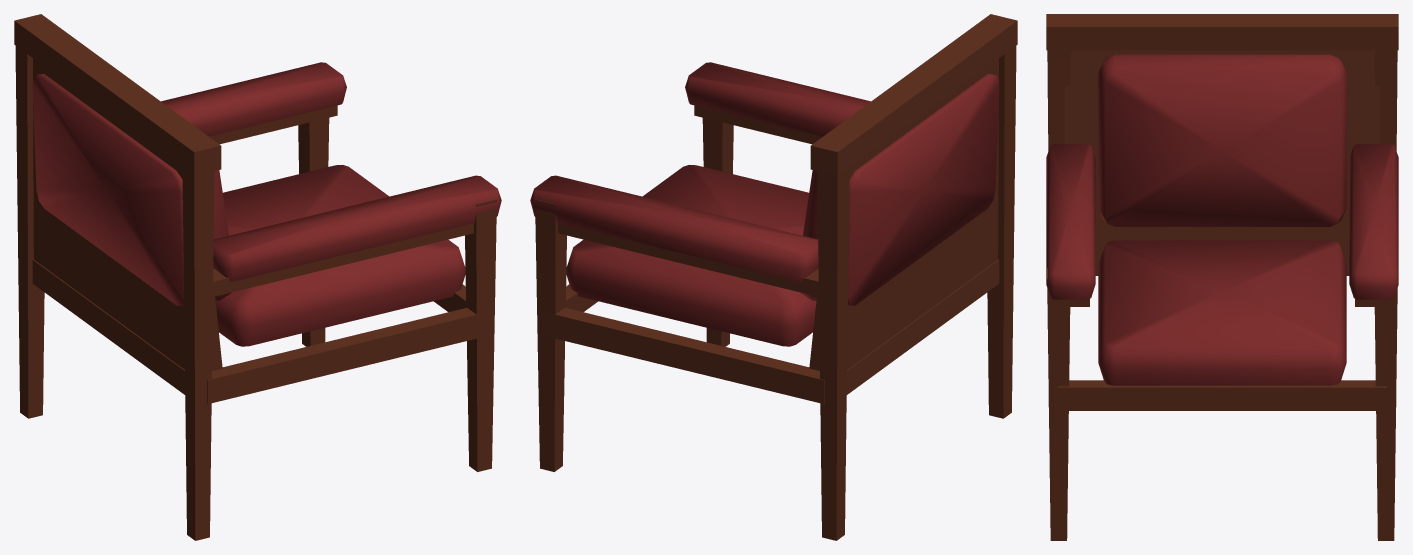
Rendered from parametric-armchair-2nd.glb.
The picture shows the model from 3 angles, left to right: view 1: azimuth 30°, elevation 25°; view 2: azimuth 150°, elevation 25°; view 3: azimuth 270°, elevation 25°; orthographic projection. The views are drawn at different scales.
Visible parts, largest first — view 1: parametric-armchair-2nd; view 2: parametric-armchair-2nd; view 3: parametric-armchair-2nd.
Boxes of the visible parts, bbox=[...] form: parametric-armchair-2nd: bbox=[14, 14, 501, 540]; parametric-armchair-2nd: bbox=[530, 14, 1017, 540]; parametric-armchair-2nd: bbox=[1046, 14, 1398, 540].
Bounding box in the file's own units: 0.75 × 0.9 × 0.75.
